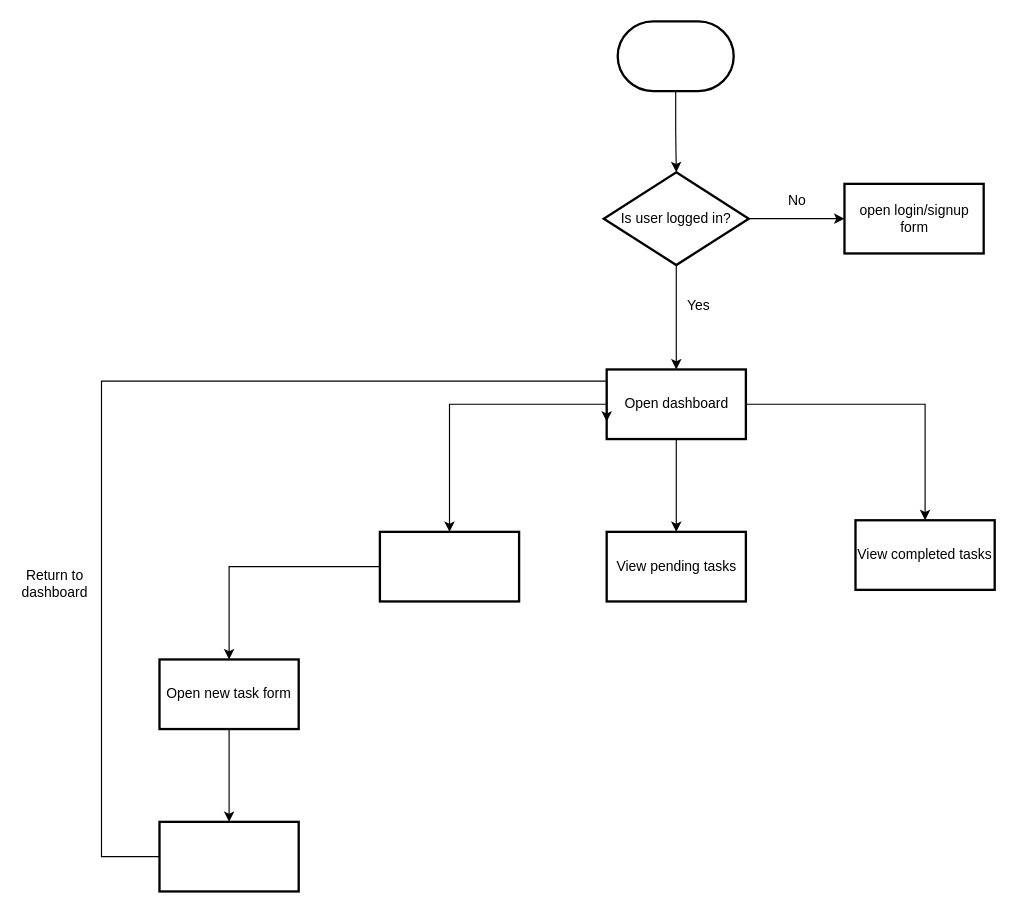
The diagram is 1015 pixels wide and 912 high, and some of its shapes have lost their labels. The centre of each missing label's shape, as x and y in pixels:
Create new task: point (449, 566)
Open web app: point (675, 56)
Save task: point (228, 856)
